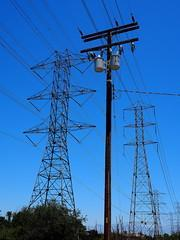power_tower: (24, 47, 95, 224), (121, 100, 163, 238)
